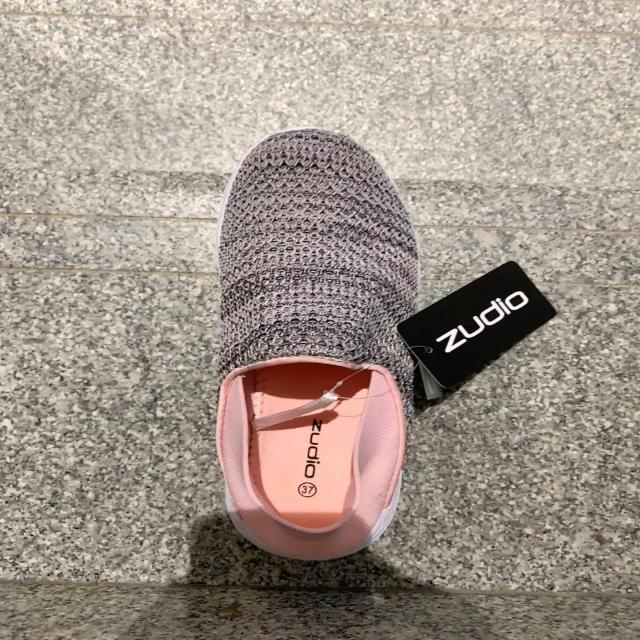shoe: (216, 128, 420, 568)
